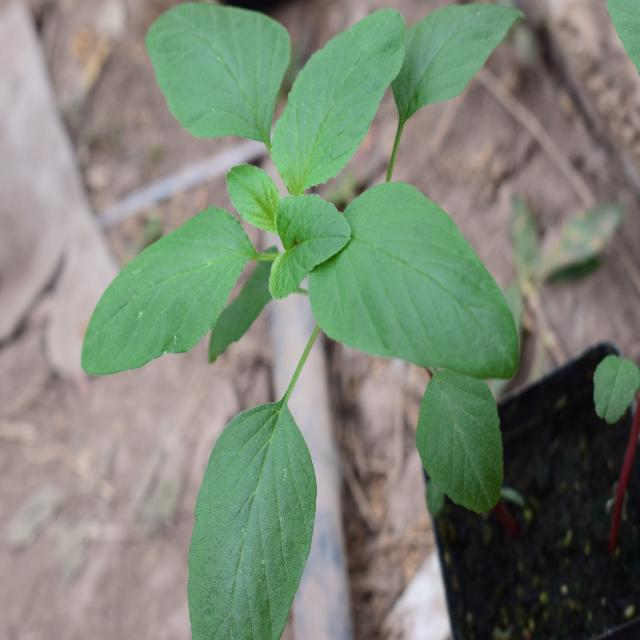pigweed: (126, 0, 516, 616)
